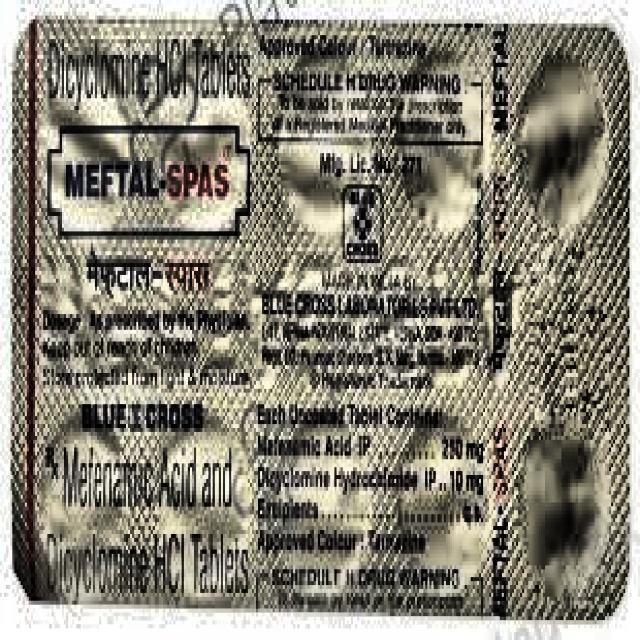Meftal: (46, 118, 258, 272)
